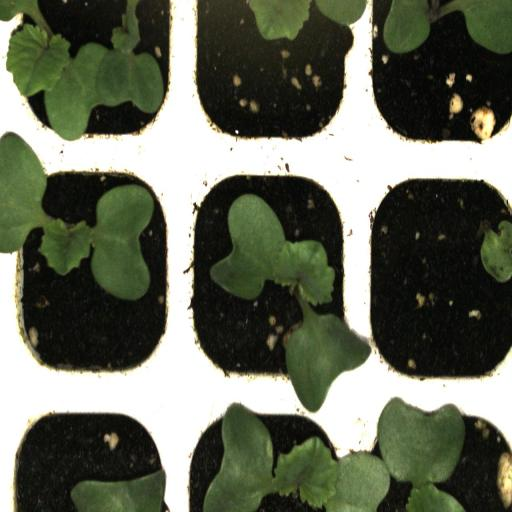seedling: (4, 157, 181, 394), (182, 160, 356, 391)
twoseedling: (5, 0, 182, 156)
weak: (361, 158, 512, 393)
